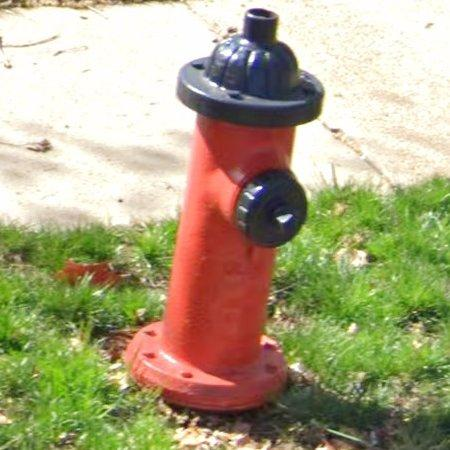a fire hydrant: (125, 8, 325, 412)
